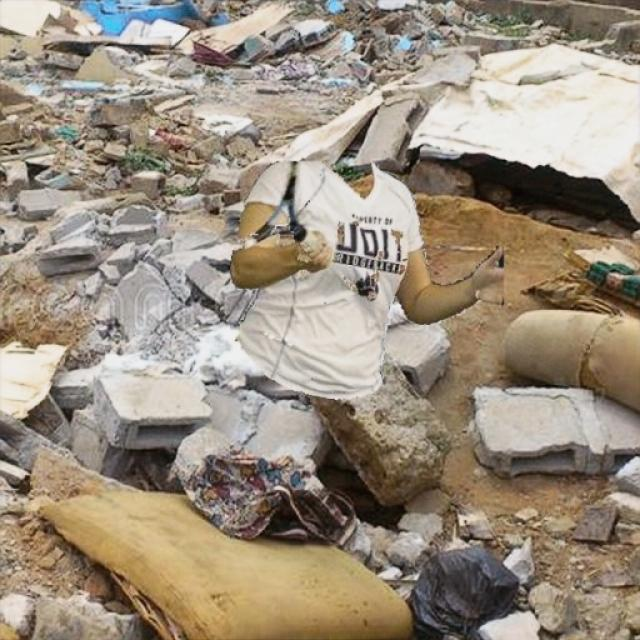Person in Rubble: (228, 161, 502, 399)
